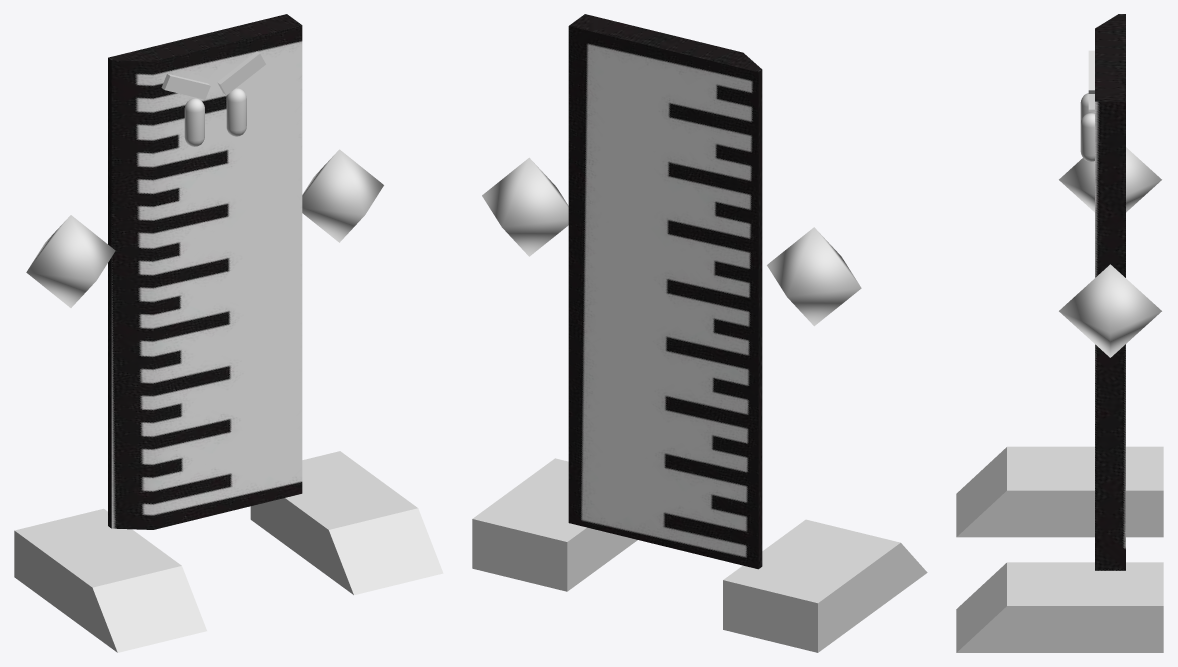
Rendered from 間尺人2.fbx.
The picture shows the model from 3 angles, left to right: view 1: azimuth 30°, elevation 25°; view 2: azimuth 150°, elevation 25°; view 3: azimuth 270°, elevation 25°; orthographic projection. The views are drawn at different scales.
Parts seen in each view (by area): view 1: Box001, 右腳, 左腳, 右手, 左手, 右眼, 左眼, 左眉, 右眉; view 2: Box001, 右腳, 左腳, 右手, 左手; view 3: 左腳, 右腳, Box001, 左手, 右手, 左眼.
Part boxes in pixels (box(x1,y1,x2,y2)): Box001: box(108, 14, 302, 529); 右腳: box(14, 508, 206, 652); 左腳: box(250, 451, 443, 595); 右手: box(26, 215, 115, 307); 左手: box(302, 149, 383, 242); 右眼: box(184, 98, 204, 146); 左眼: box(226, 88, 246, 136); 左眉: box(217, 51, 265, 95); 右眉: box(161, 73, 210, 99); Box001: box(568, 14, 762, 569); 右腳: box(723, 519, 927, 652); 左腳: box(472, 458, 637, 591); 右手: box(767, 227, 861, 326); 左手: box(482, 157, 568, 256); 左腳: box(956, 562, 1163, 652); 右腳: box(956, 446, 1163, 537); Box001: box(1095, 14, 1125, 570); 左手: box(1059, 264, 1161, 357); 右手: box(1059, 147, 1161, 212); 左眼: box(1080, 113, 1094, 161).
Bounding box in the file's own units: 40 × 55 × 20.
Materials: 1 (1 with a texture image).
